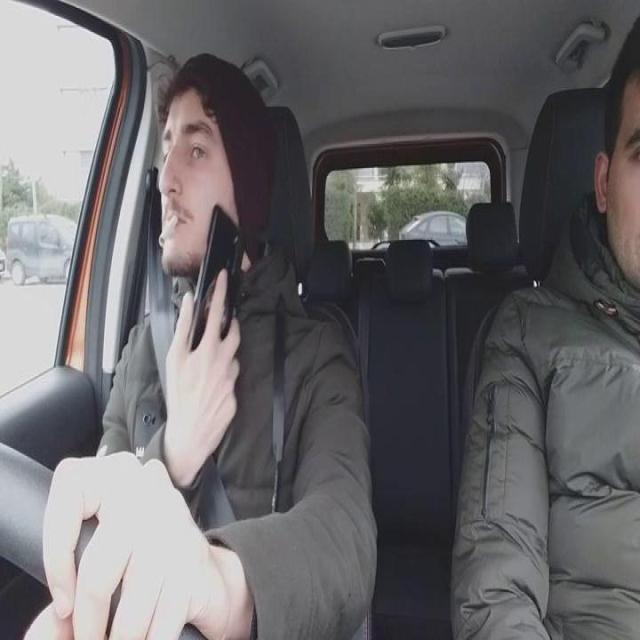phone: (187, 203, 244, 354)
